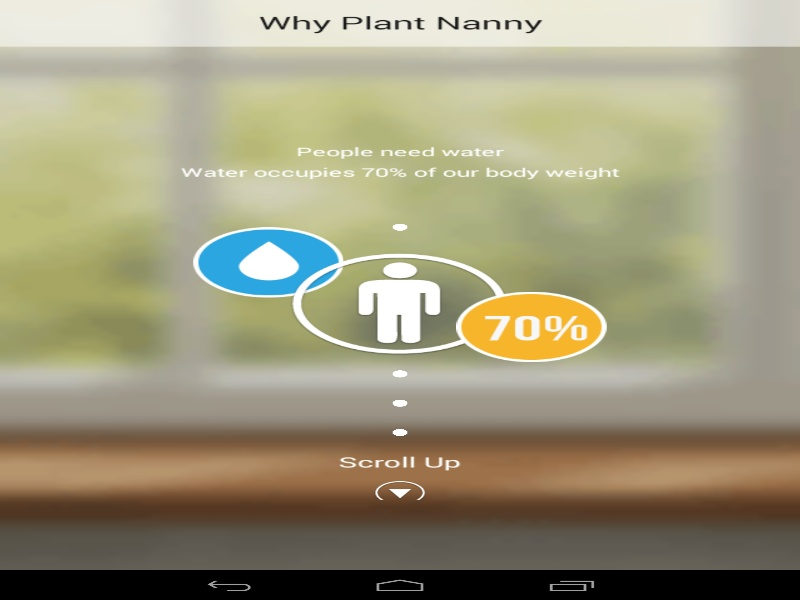Input: (0, 0, 800, 24)
